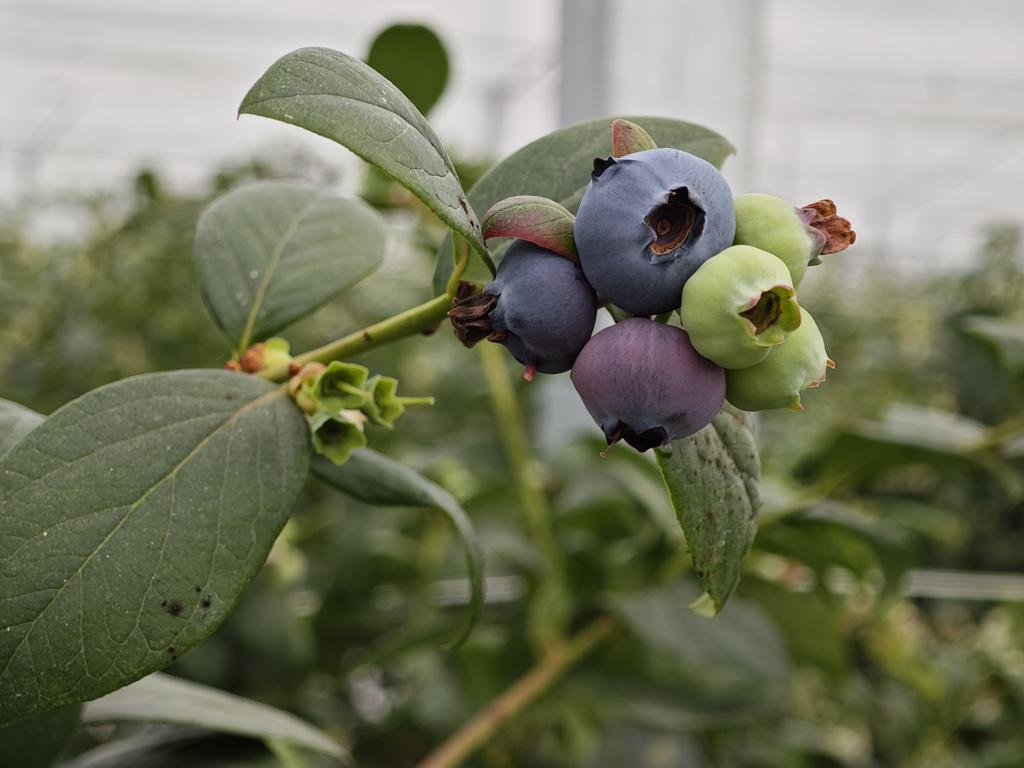RipeBlueBerry: (570, 144, 739, 314), (481, 237, 596, 376)
Semi-RipeBlueBerry: (569, 317, 732, 451)
UnripeBlueBerry: (678, 241, 804, 370)
